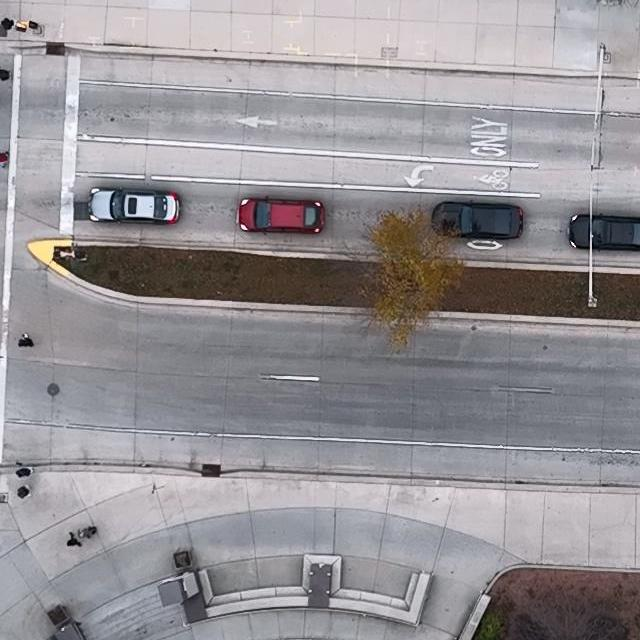car: (432, 199, 524, 239), (87, 186, 180, 223), (239, 196, 326, 235), (568, 213, 640, 251)
